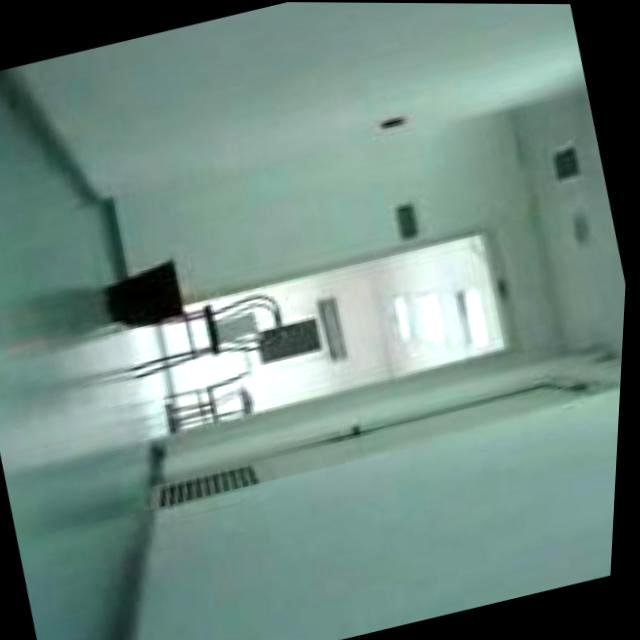fire: (183, 291, 209, 317)
